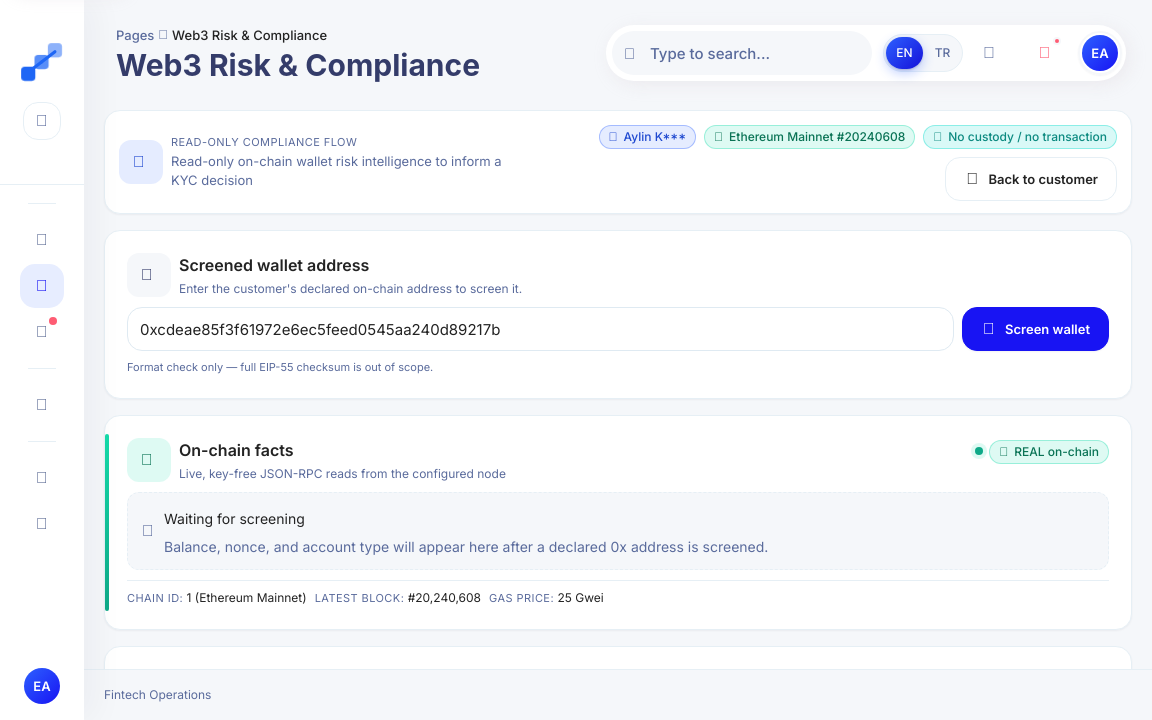
Test: documentation screenshots › captures read-only Web3 clear and flagged states without external network access
Click the button "Screen wallet".
click(1036, 329)  # box [962, 307, 1109, 351]
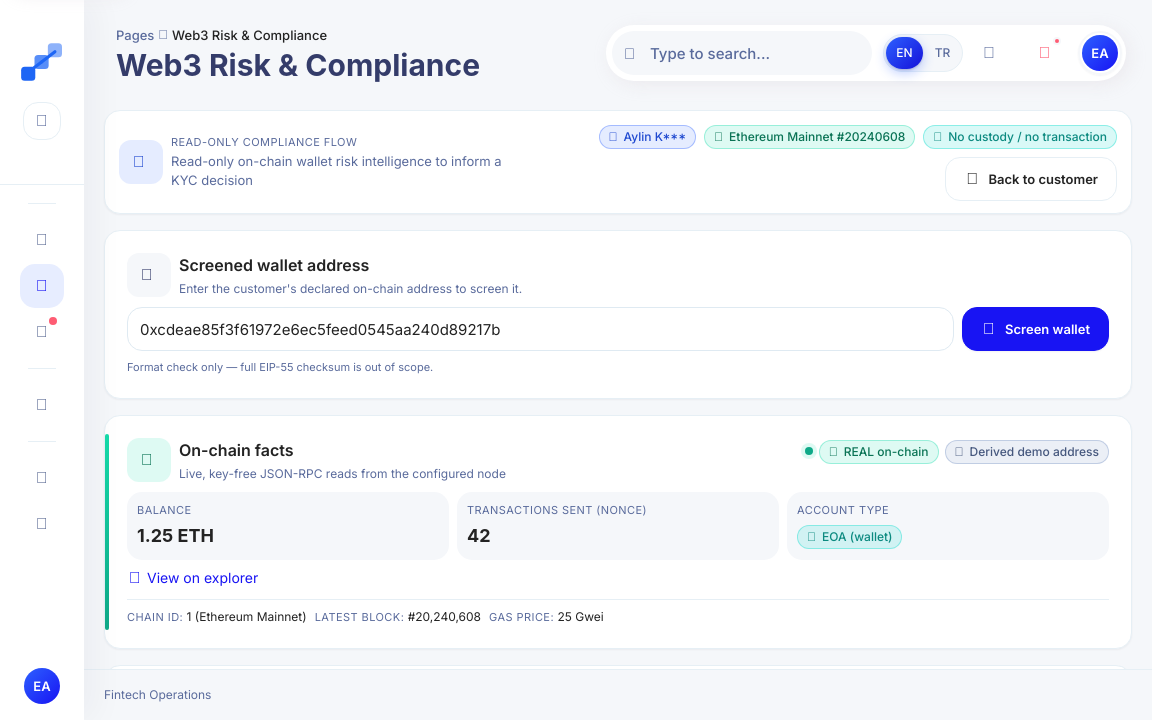
Result: the element with class "web3-facts" is shown at [127, 492, 1109, 561]
Open "/customers/c-1/web3-risk"
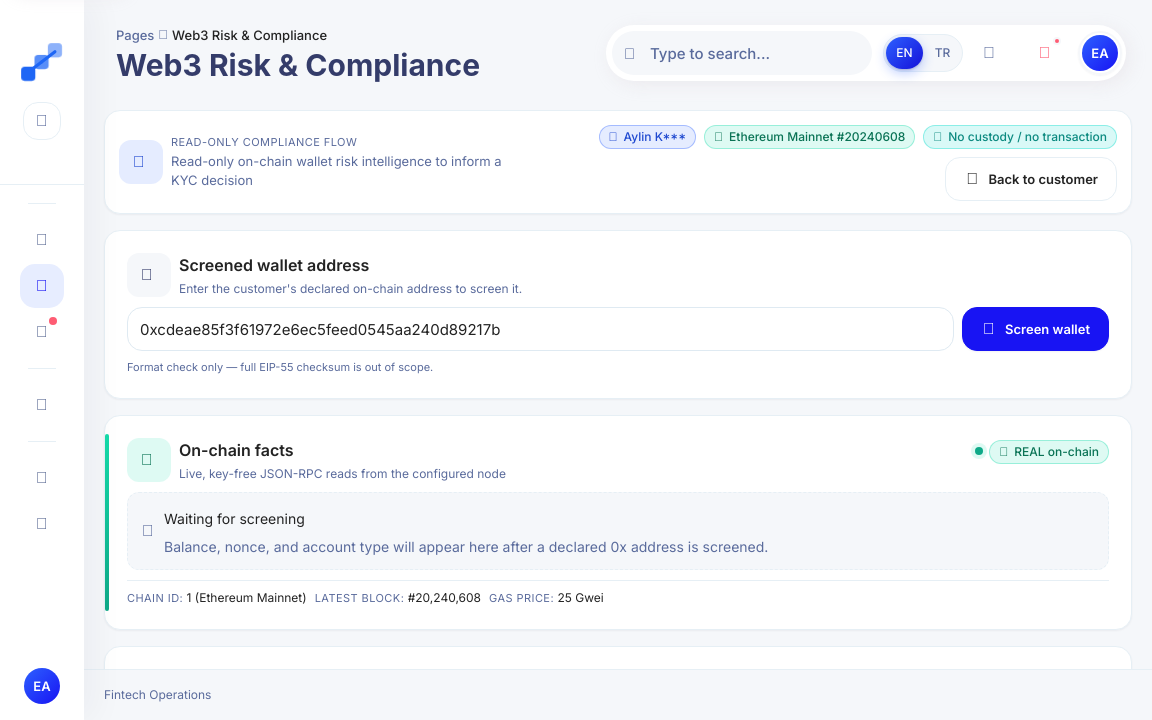
Click the button "Screen wallet".
click(1036, 329)  # box [962, 307, 1109, 351]
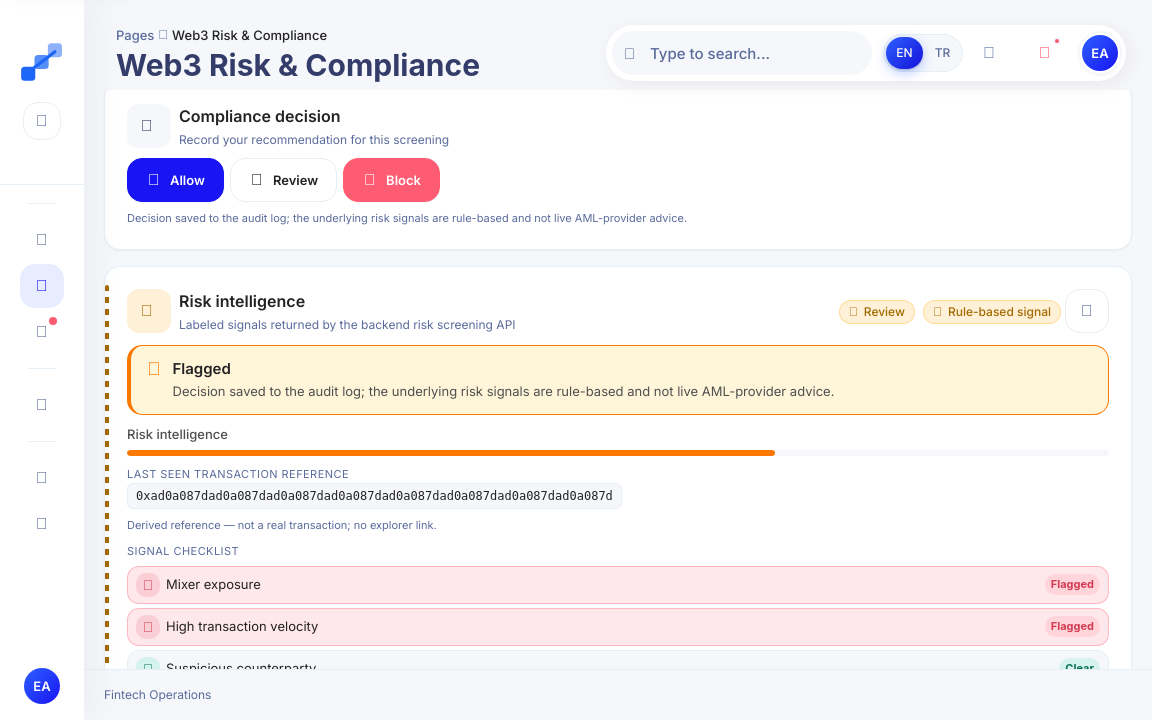
Result: the element with class "web3-flagged" that starts with "Flagged" is shown at [127, 345, 1109, 415]
